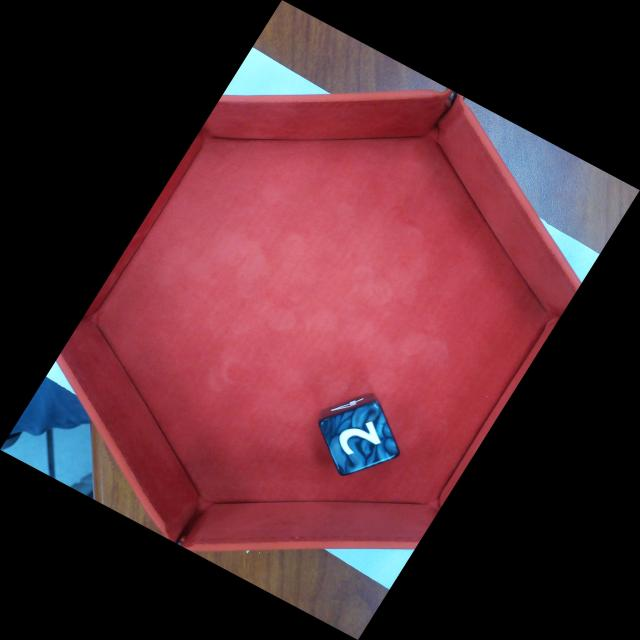dice: (316, 399, 402, 477)
